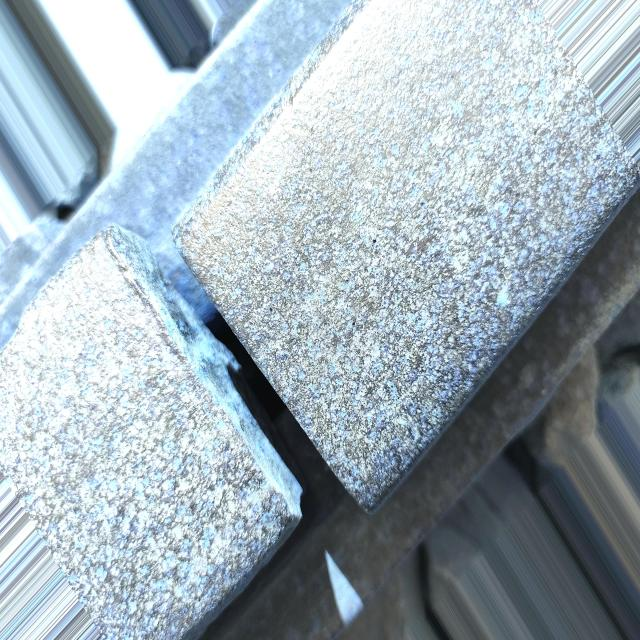crack: (63, 161, 400, 559)
